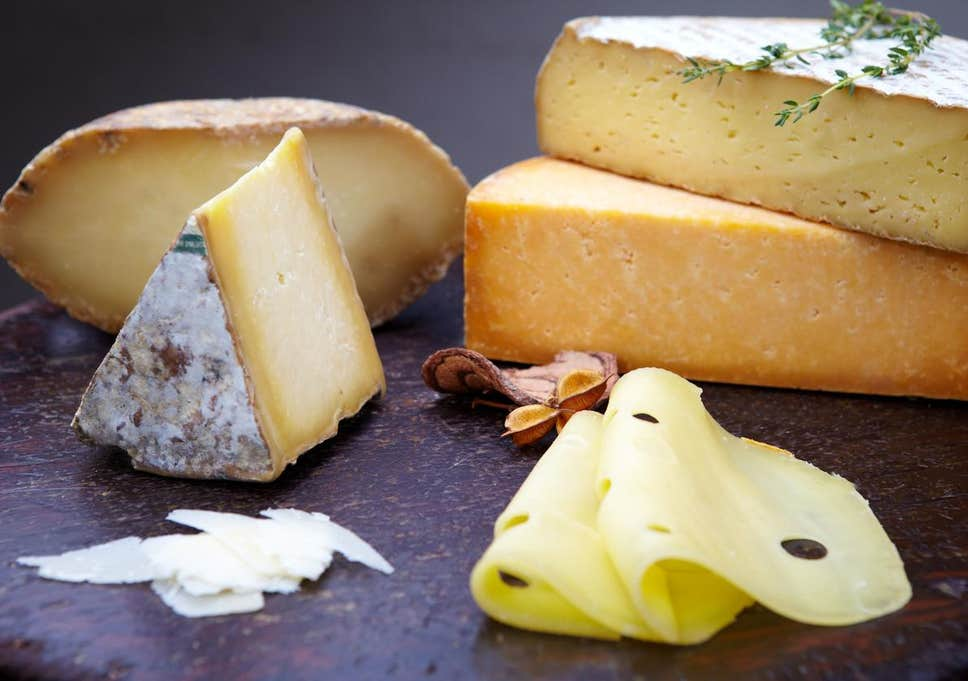cheese: (463, 355, 905, 671), (446, 143, 968, 405), (59, 125, 412, 500), (16, 70, 458, 360), (520, 16, 968, 209), (19, 508, 385, 649)
